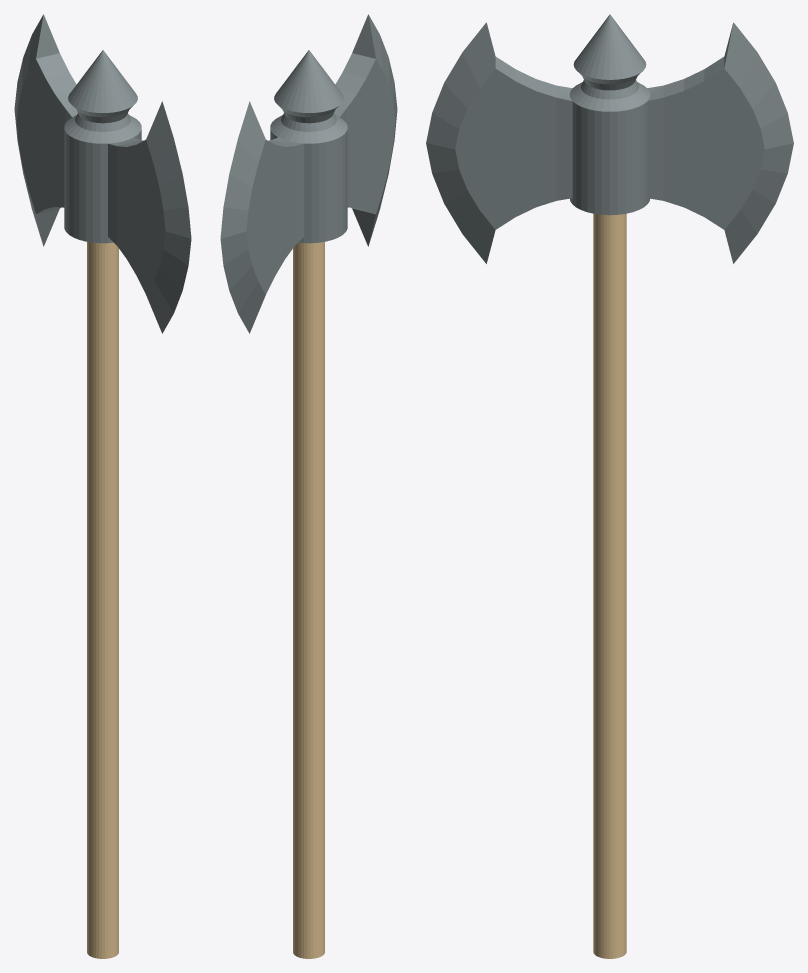
The model's file is HachaDeGuerra2_escala.dae.
3 views of the same model, side by side, from view 1: azimuth 30°, elevation 25°; view 2: azimuth 150°, elevation 25°; view 3: azimuth 270°, elevation 25° (orthographic). The views are drawn at different scales.
Visible parts, largest first — view 1: Hacha; view 2: Hacha; view 3: Hacha.
Boxes of the visible parts, x1,y1,x2,y2 form: Hacha: (14, 14, 191, 958); Hacha: (220, 14, 397, 958); Hacha: (426, 14, 793, 958).
Bounding box in the file's own units: 0.238 × 1.08 × 3.05.
